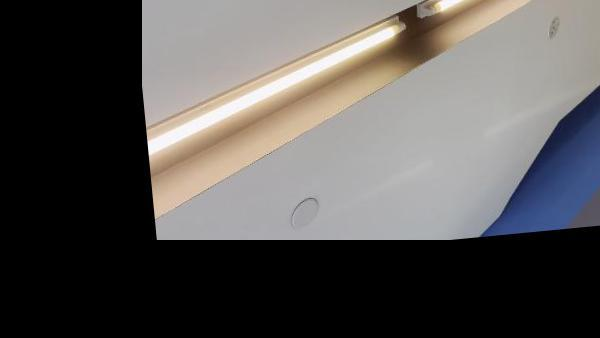light_on: (137, 9, 423, 175), (442, 0, 600, 12)
